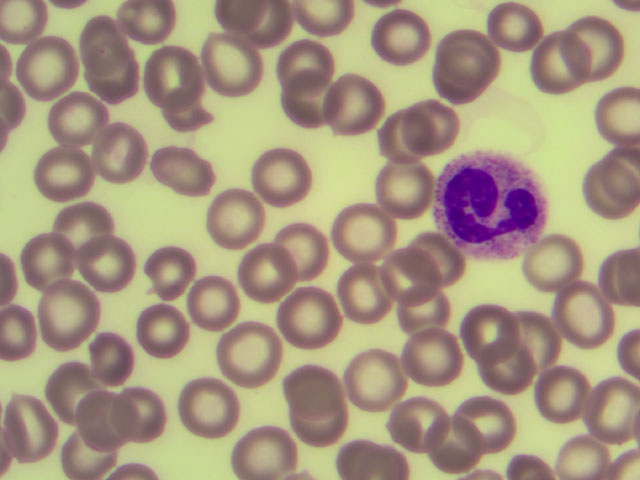RBC: (231, 412, 299, 480), (341, 412, 409, 480), (425, 412, 493, 480), (547, 412, 615, 480), (15, 34, 83, 101), (64, 9, 132, 76), (80, 43, 148, 110), (139, 48, 207, 115), (217, 33, 285, 100), (259, 21, 327, 88), (273, 66, 341, 133), (318, 67, 386, 134), (354, 96, 422, 163), (400, 90, 468, 157), (420, 49, 488, 116), (437, 19, 505, 86), (368, 3, 436, 70), (522, 31, 590, 98), (561, 12, 629, 79), (572, 156, 640, 223), (521, 225, 589, 292), (543, 268, 611, 335), (511, 309, 579, 376), (465, 334, 533, 401), (448, 300, 516, 367), (393, 321, 461, 388), (385, 276, 453, 343), (380, 240, 448, 307), (405, 222, 473, 289), (334, 203, 402, 270), (369, 158, 437, 225), (331, 263, 399, 330), (280, 284, 348, 351), (220, 231, 288, 298), (262, 216, 330, 283), (205, 184, 273, 251), (247, 141, 315, 208), (154, 142, 222, 209), (96, 122, 164, 189), (45, 84, 113, 151), (26, 146, 94, 213), (51, 188, 119, 255), (6, 225, 74, 292), (73, 232, 141, 299), (33, 283, 101, 350), (74, 315, 142, 382), (37, 350, 105, 417), (58, 380, 126, 447), (107, 376, 175, 443), (179, 369, 247, 436), (221, 321, 289, 388), (179, 270, 247, 337), (126, 298, 194, 365), (136, 234, 204, 301), (268, 351, 336, 418), (286, 404, 354, 471), (382, 382, 450, 449), (456, 391, 524, 458), (340, 342, 408, 409), (517, 358, 585, 425), (572, 363, 640, 430), (1, 402, 68, 469), (482, 1, 551, 51), (579, 90, 640, 144)
WBC: (435, 145, 544, 255)
